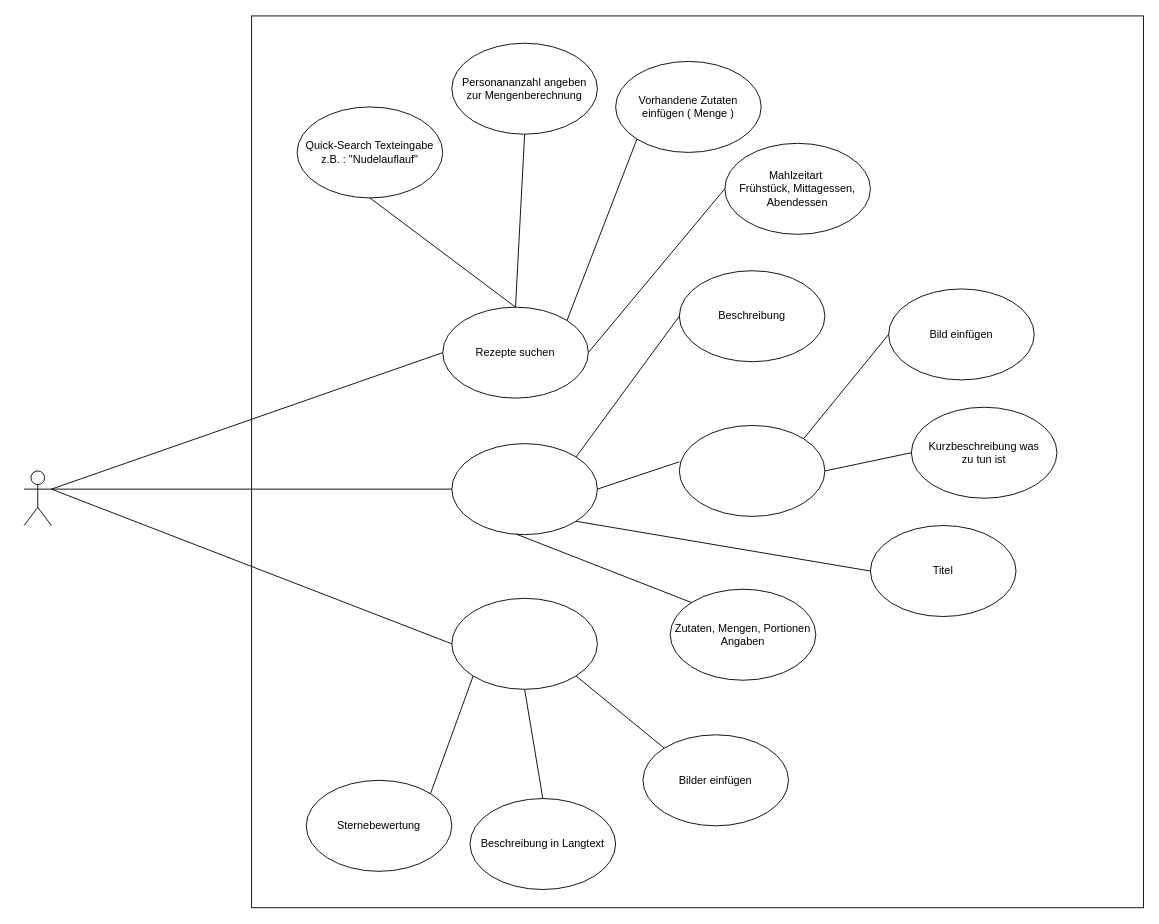
This 1159x924 diagram has some shape labels left out. Here are the shapes that lost their labels. From the top down, the centre of each, then its label:
At (x=524, y=489): "Rezepte hochladen".
At (x=751, y=470): "Kochschritte hinzufügen".
At (x=37, y=498): "Benutzer".
At (x=524, y=643): "Rezepte bewerten".
